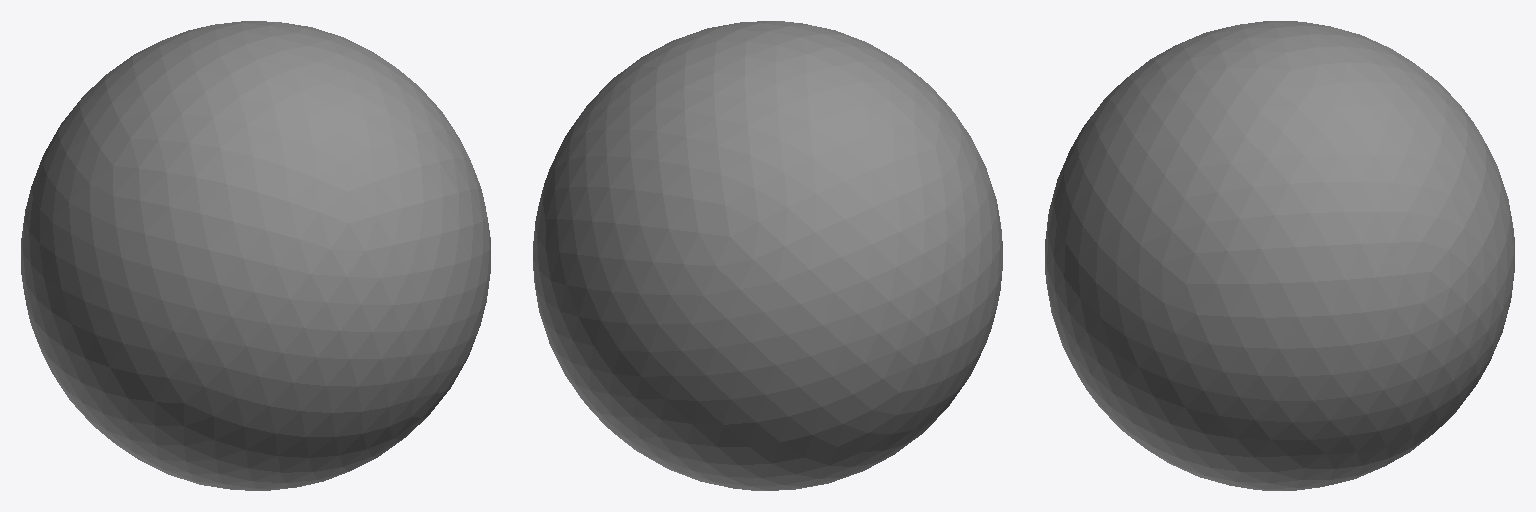
The model's file is Earth.obj.
3 renders of one model, left to right at view 1: azimuth 30°, elevation 25°; view 2: azimuth 150°, elevation 25°; view 3: azimuth 270°, elevation 25°, orthographic.
Visible parts, largest first — view 1: GeoSphere001; view 2: GeoSphere001; view 3: GeoSphere001.
Part boxes in pixels (left/top/right/bottom): GeoSphere001: left=21, top=21, right=490, bottom=490; GeoSphere001: left=533, top=21, right=1002, bottom=490; GeoSphere001: left=1045, top=21, right=1514, bottom=490.
Size of the model in its own units: 49.98 by 49.94 by 49.94.